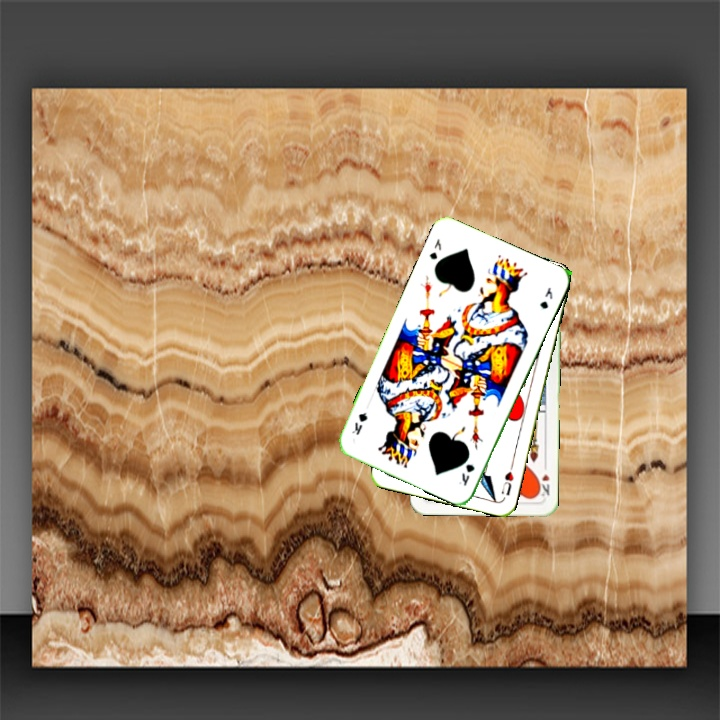GK: (454, 460, 477, 488), (425, 235, 444, 262)
HK: (534, 460, 552, 498)
HU: (497, 461, 516, 498)
